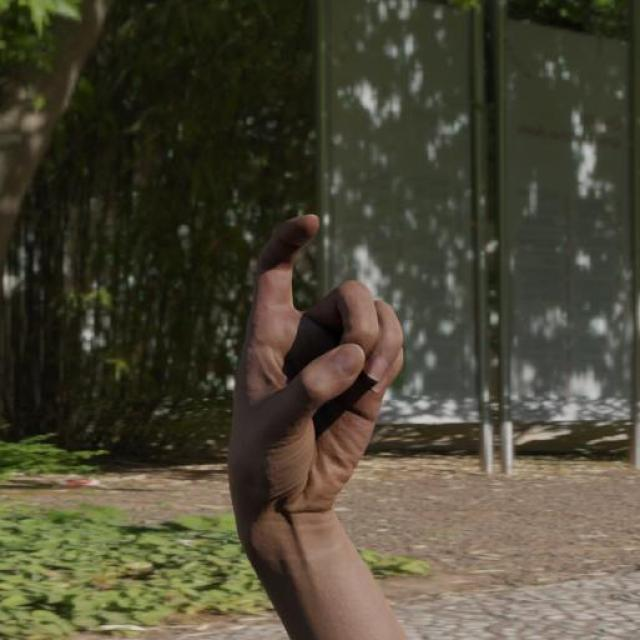X: (224, 210, 409, 520)
